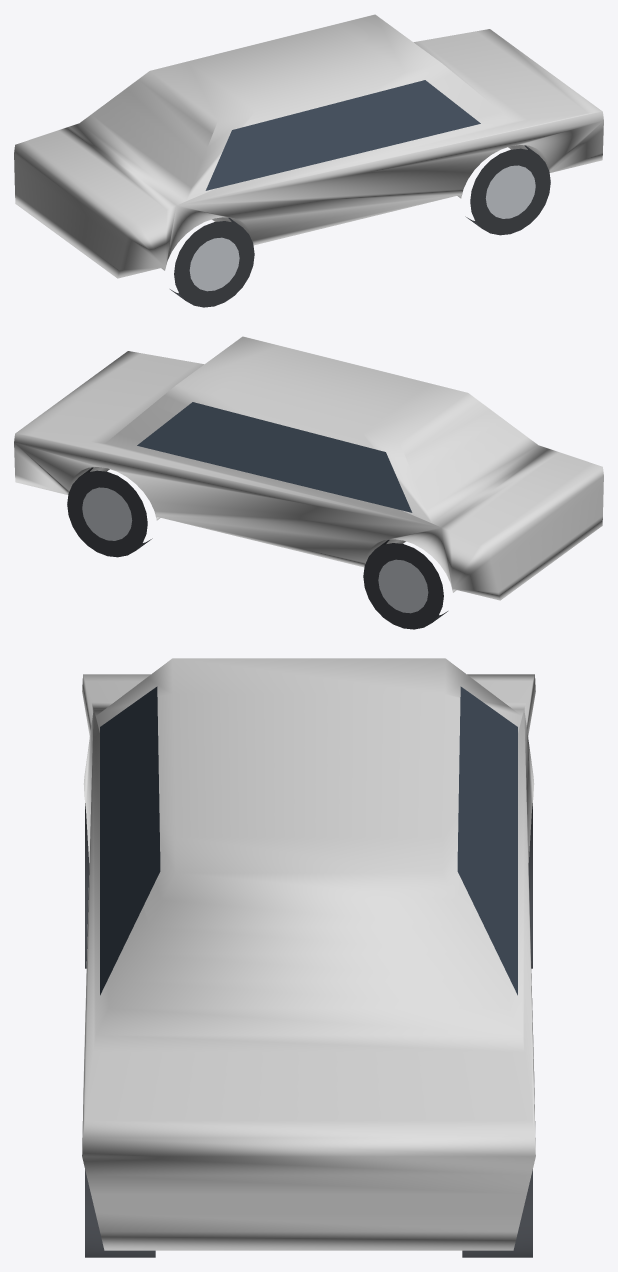
Rendered from lada6.glb.
3 views of the same model, one above another, from view 1: azimuth 30°, elevation 25°; view 2: azimuth 150°, elevation 25°; view 3: azimuth 270°, elevation 25° (orthographic). The views are drawn at different scales.
Visible parts, largest first — view 1: Car; view 2: Car; view 3: Car.
Part boxes in pixels (x1,y1,x2,y2): Car: [14, 14, 603, 307]; Car: [14, 336, 603, 629]; Car: [82, 658, 535, 1257].
Size of the model in its own units: 3.8 by 1.24 by 1.54.
